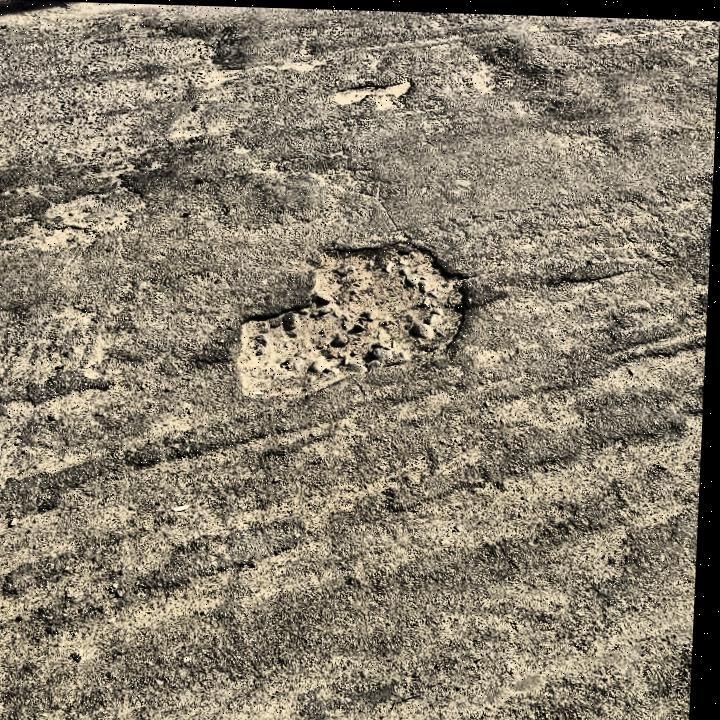pothole: (230, 224, 474, 400), (332, 74, 419, 106)
